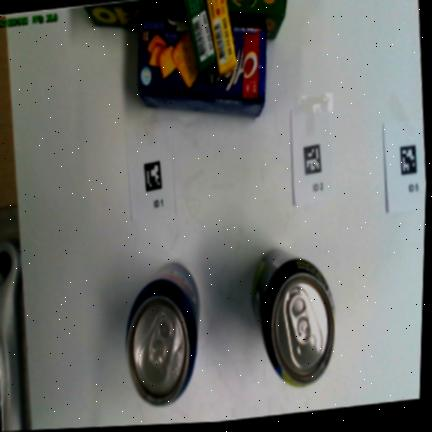can_pepsi: (126, 262, 199, 404)
can_pepsi_zero: (251, 249, 334, 386)
